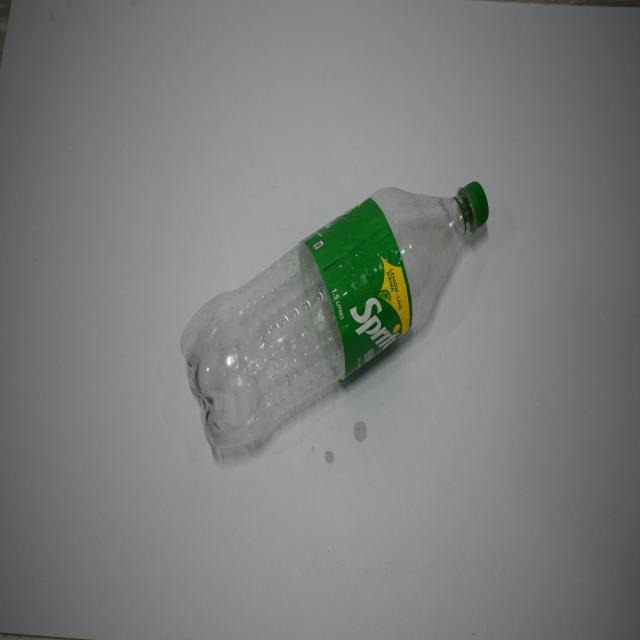bottle: (171, 166, 497, 484)
